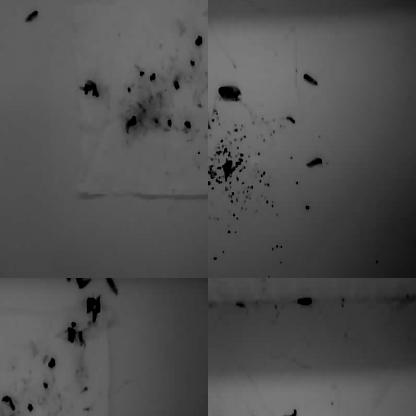PtecticusTenebrifer: (219, 86, 242, 100), (306, 156, 324, 170), (106, 278, 119, 295), (25, 9, 39, 24), (304, 73, 318, 88), (208, 176, 217, 194), (208, 162, 216, 182), (79, 278, 92, 290), (7, 396, 16, 413), (296, 298, 314, 306), (286, 113, 297, 126), (282, 407, 297, 416), (208, 140, 215, 159), (96, 294, 103, 313), (77, 329, 84, 347), (208, 113, 214, 131), (171, 0, 184, 8), (208, 203, 216, 216), (92, 305, 97, 325), (208, 38, 213, 57), (59, 278, 67, 289), (42, 0, 56, 5), (81, 278, 88, 287), (208, 342, 215, 351), (0, 278, 5, 290), (65, 278, 72, 286), (186, 0, 192, 9), (0, 407, 6, 416), (0, 400, 3, 416), (208, 0, 217, 5), (365, 0, 378, 3)
